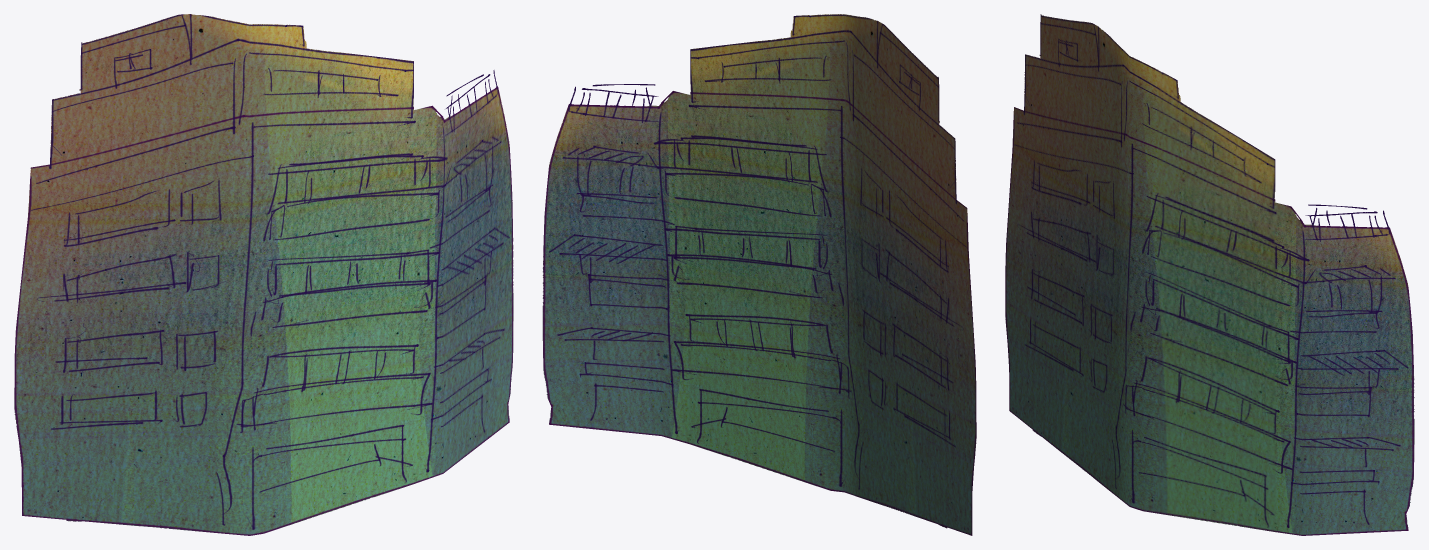
Rendered from 03_mid_bld_01.fbx.
The picture shows the model from 3 angles, left to right: view 1: azimuth 30°, elevation 25°; view 2: azimuth 150°, elevation 25°; view 3: azimuth 330°, elevation 25°; orthographic projection. The views are drawn at different scales.
Visible parts, largest first — view 1: 03_中_房子_01; view 2: 03_中_房子_01; view 3: 03_中_房子_01.
Boxes of the visible parts, bbox=[...] form: 03_中_房子_01: bbox=[14, 14, 513, 535]; 03_中_房子_01: bbox=[542, 14, 976, 535]; 03_中_房子_01: bbox=[1005, 14, 1414, 535].
Size of the model in its own units: 86.09 by 89.86 by 14.56.
1 material, 1 textured.
